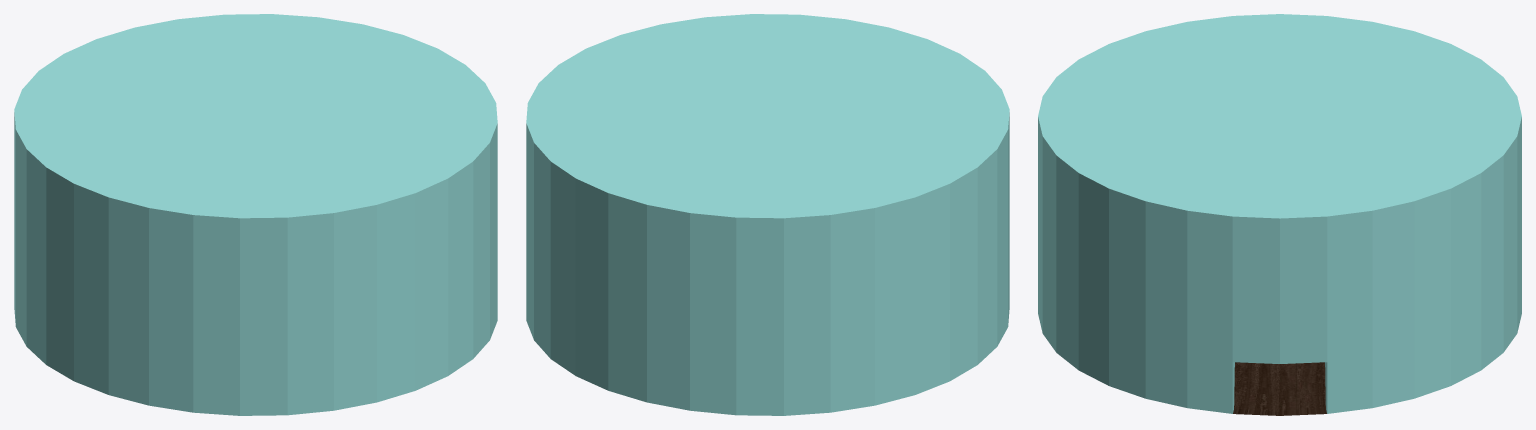
The model's file is gallary.glb.
The picture shows the model from 3 angles, left to right: view 1: azimuth 30°, elevation 25°; view 2: azimuth 150°, elevation 25°; view 3: azimuth 270°, elevation 25°; orthographic projection.
Parts seen in each view (by area): view 1: Cylinder; view 2: Cylinder; view 3: Cylinder.
Part boxes in pixels (<box>): Cylinder: <box>14,14,497,415</box>; Cylinder: <box>526,14,1009,415</box>; Cylinder: <box>1038,14,1521,415</box>.
Bounding box in the file's own units: 2 × 0.9005 × 2.
3 materials, 2 textured.
